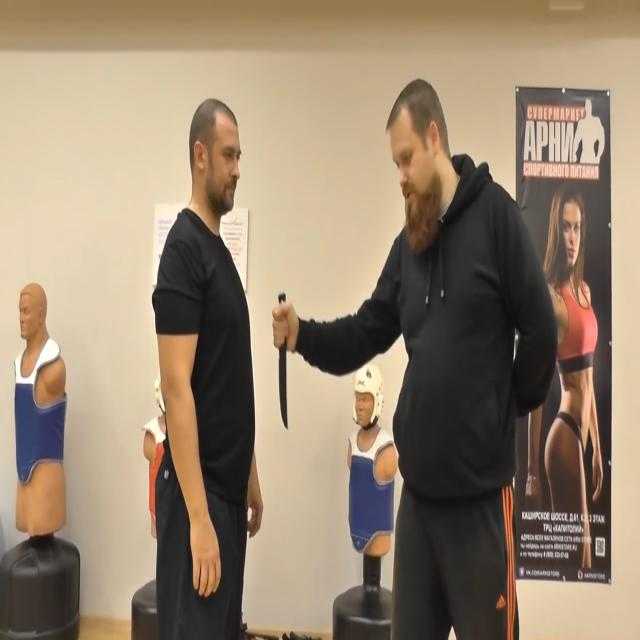knife: (278, 285, 295, 435)
